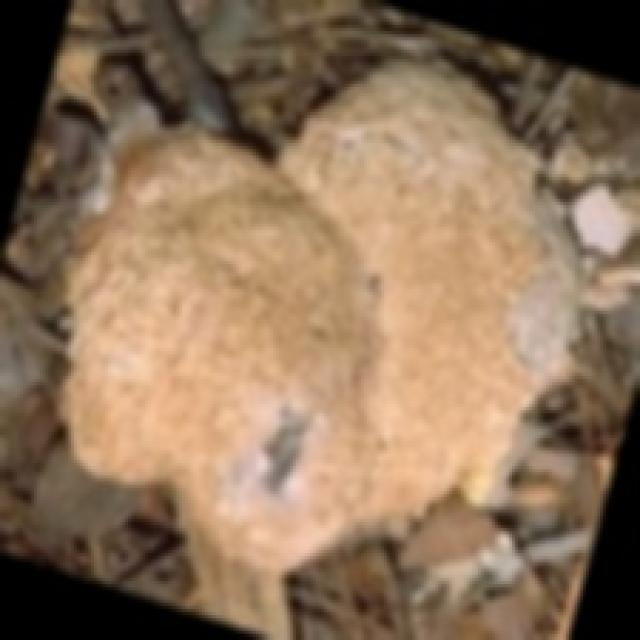Dog_vomit_slime_mold: (32, 100, 640, 566)
